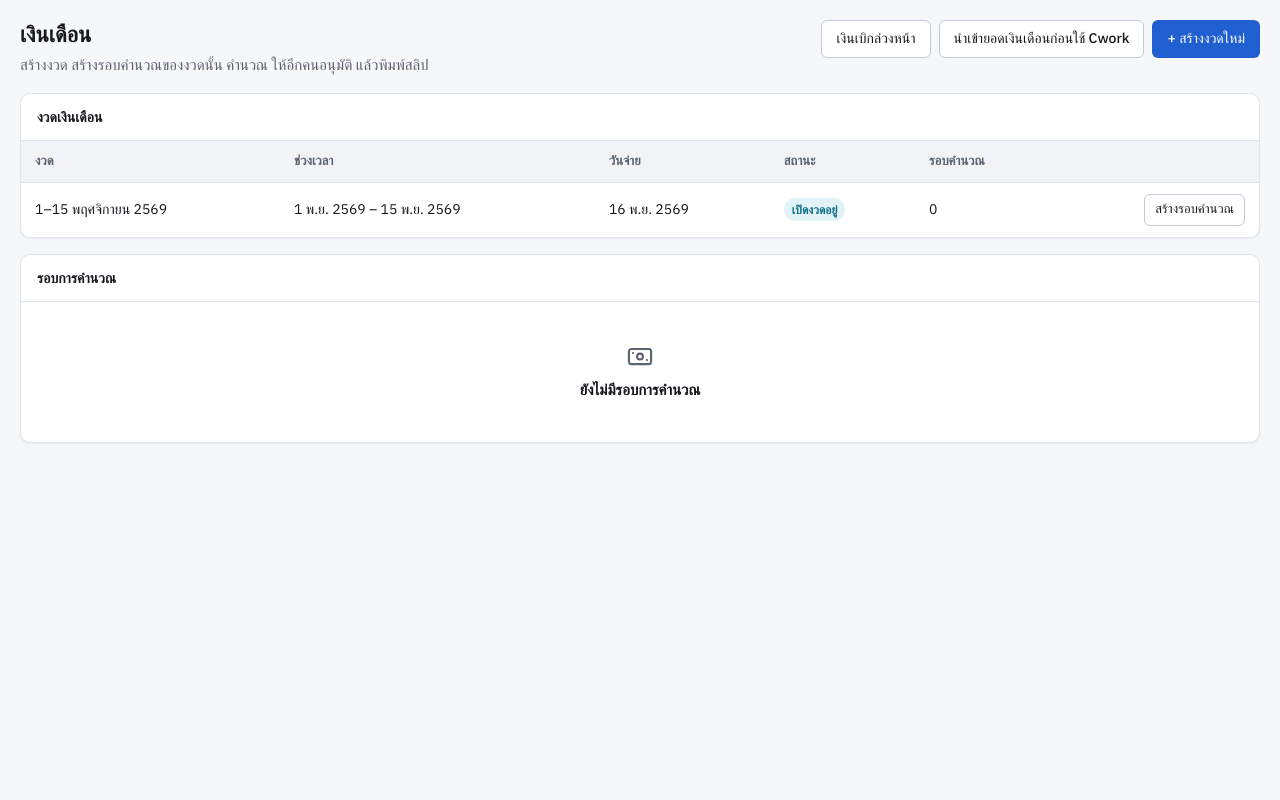
Test case: Half-month pay periods (CW-069) › names the period that already exists, in Thai
Click the button "+ สร้างงวดใหม่". click: x=1206, y=39
box: [1152,20,1260,58]
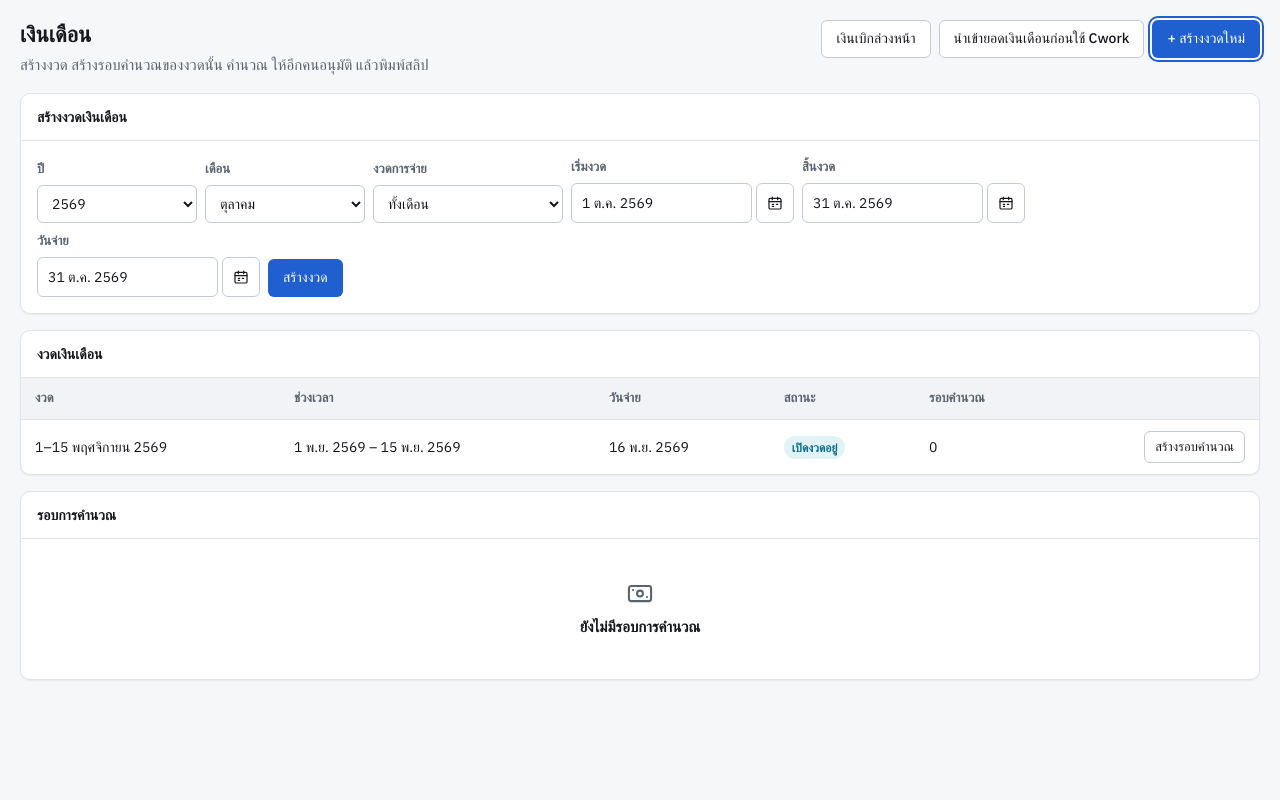
Select "พฤศจิกายน" in the dropdown labelled "เดือน". click: x=285, y=204
box: [205,185,365,223]
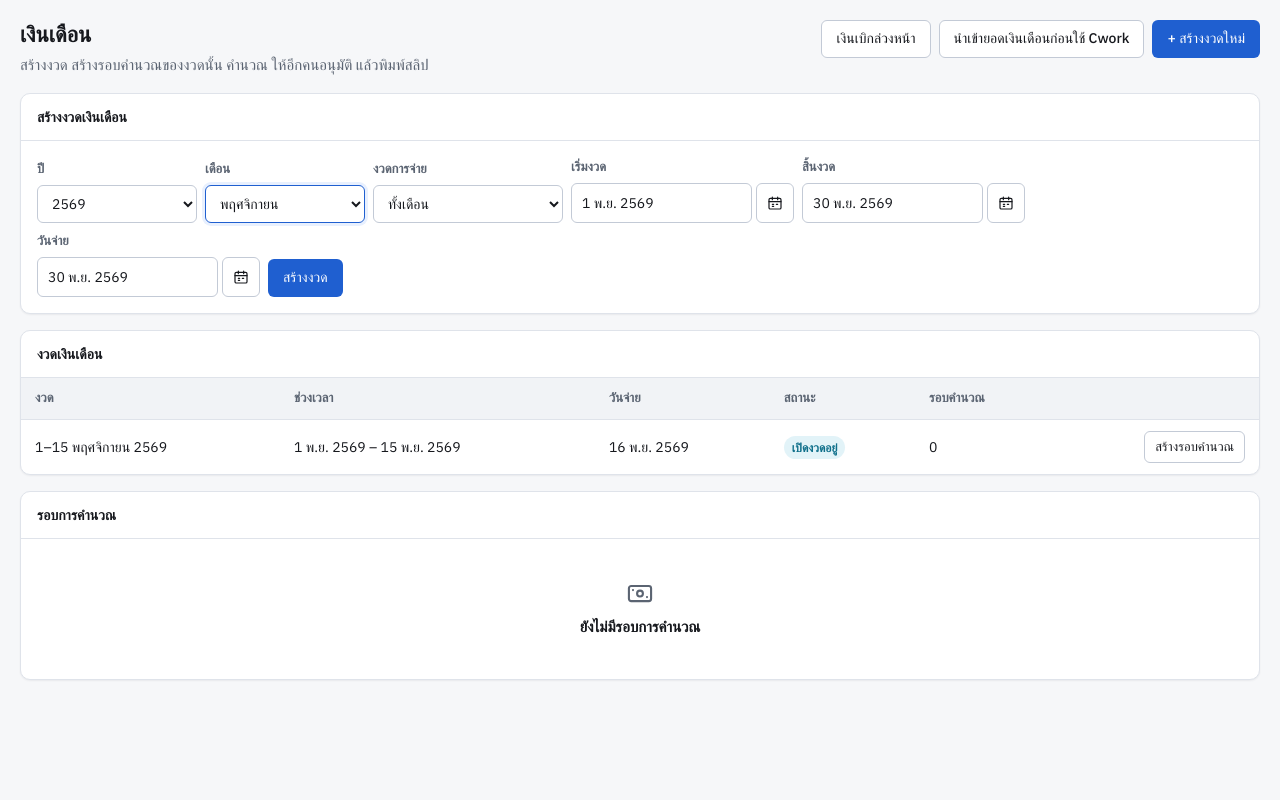
Select "ครึ่งแรก (วันที่ 1–15)" in the dropdown labelled "งวดการจ่าย". click: x=468, y=204
box: [373,185,563,223]
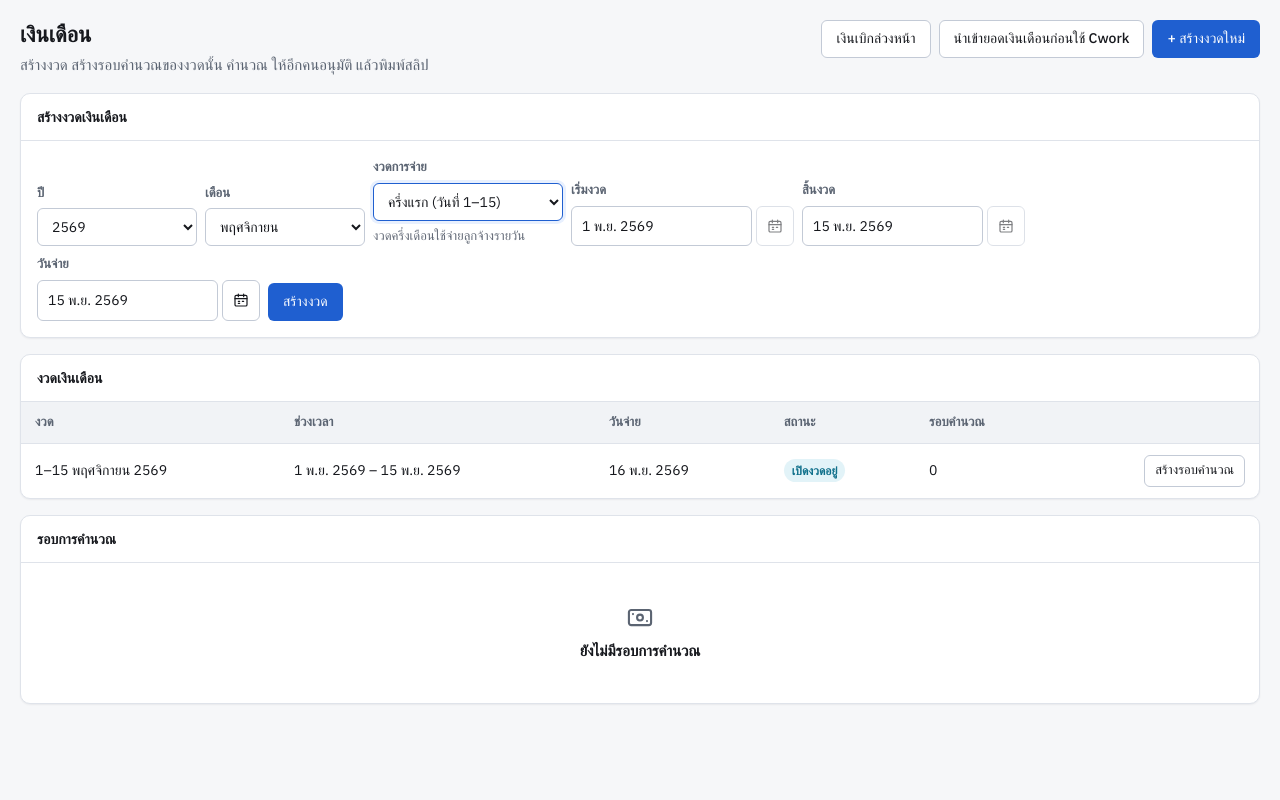
Type "2026-11-16" into the field labelled "วันจ่าย". click: x=128, y=300
box: [37,280,218,321]
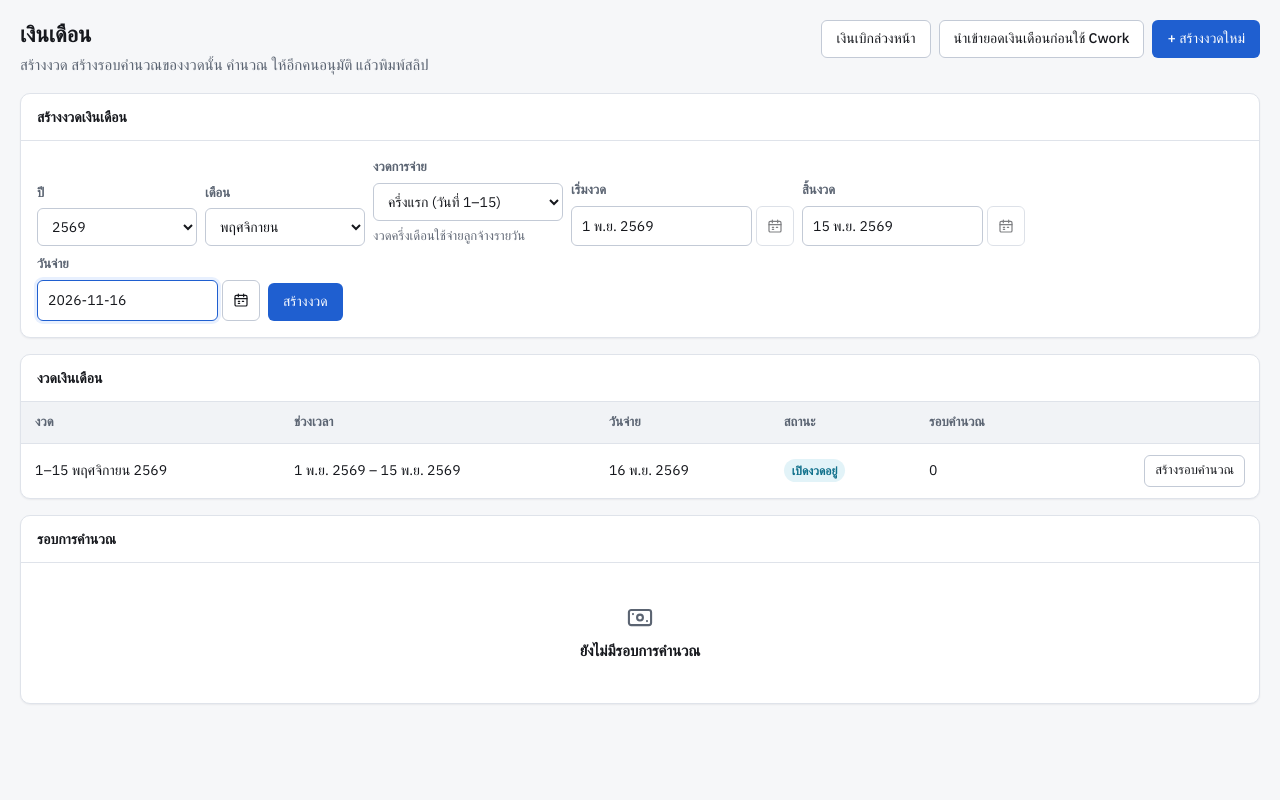
Click the button "สร้างงวด". click: x=305, y=302
box: [268,283,343,321]
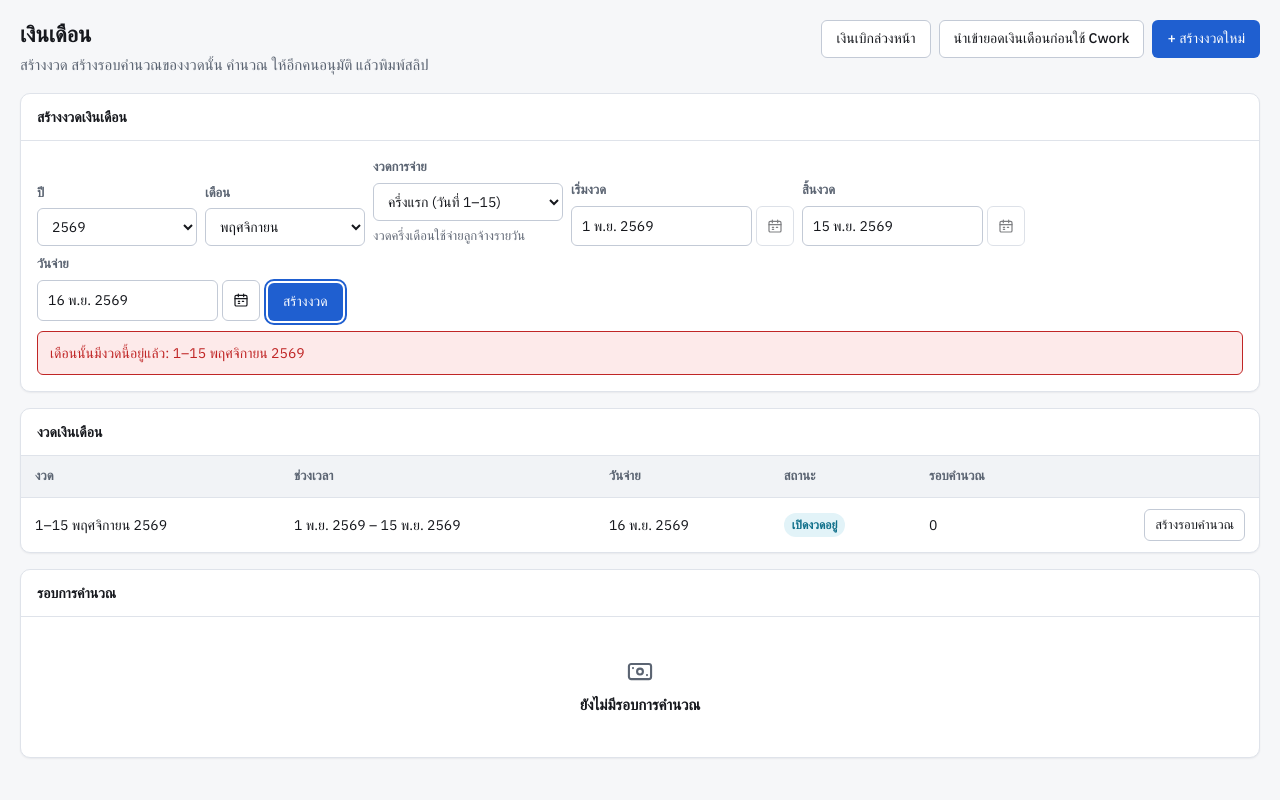
Expected: the message reads "เดือนนั้นมีงวดนี้อยู่แล้ว: 1–15 พฤศจิกายน 2569", [50,344,305,362]
